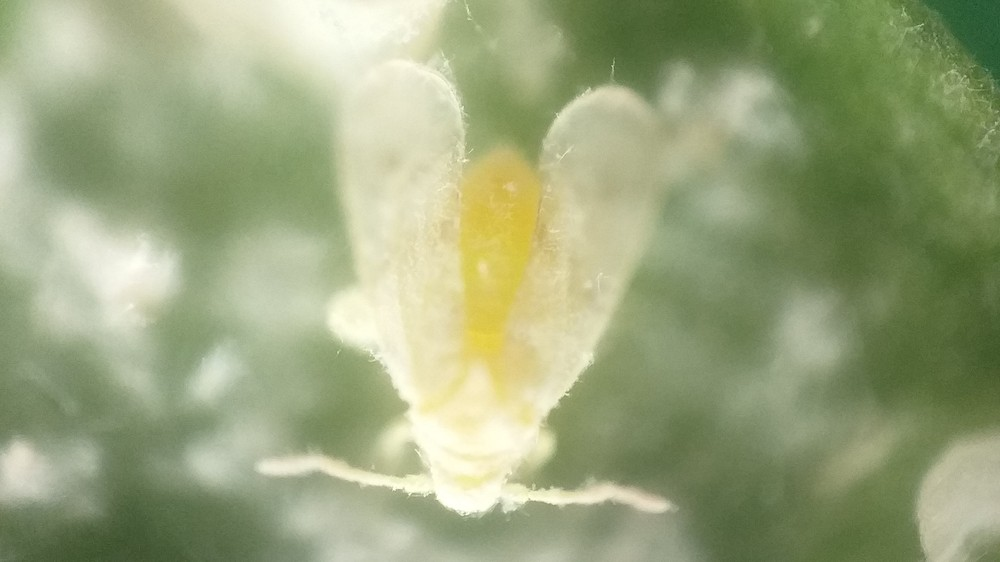Mosca Blanca: (239, 51, 697, 542)
